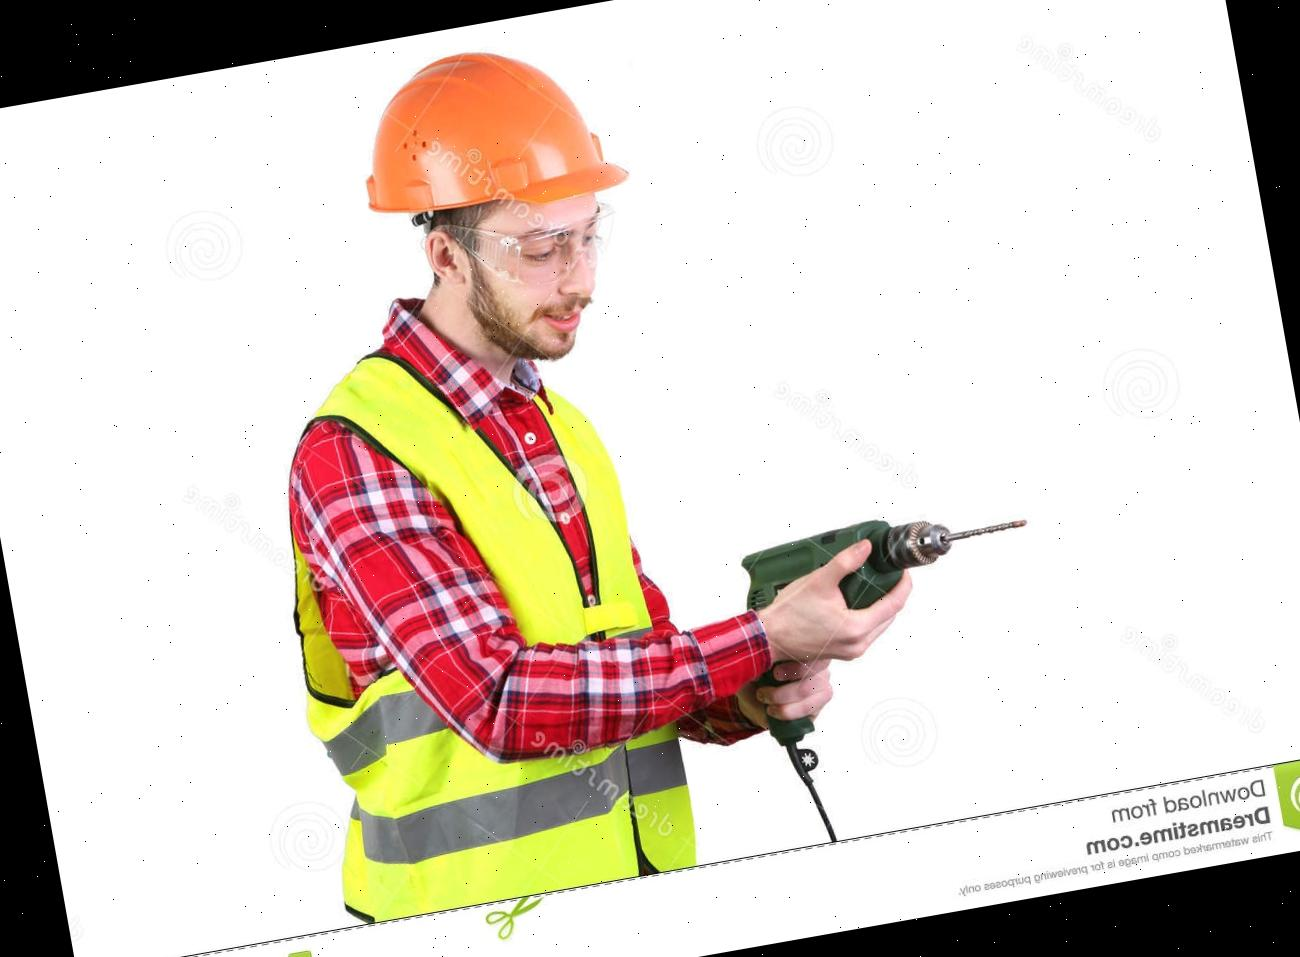helmet: (341, 27, 637, 237)
wear: (256, 353, 706, 928)
